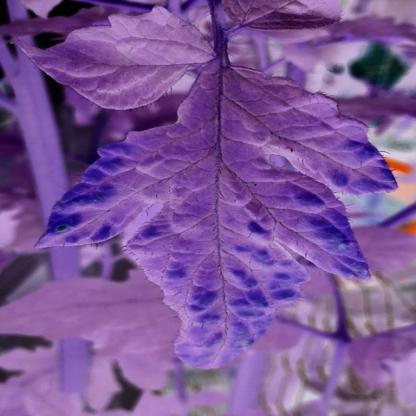tomato leaf bacterial spot: (42, 47, 393, 386)
